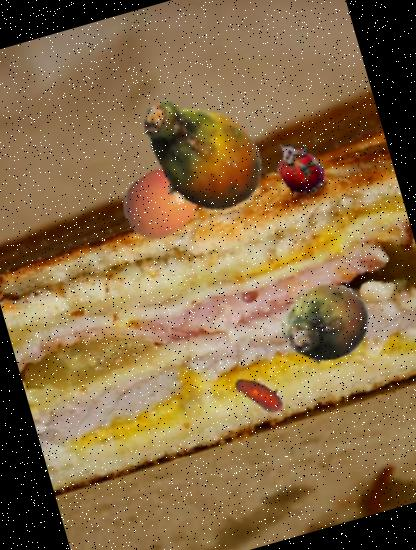Banana: (227, 358, 294, 426)
Cactus: (123, 70, 284, 231), (273, 270, 378, 376)
Grapefruit: (112, 154, 208, 250)
Pitahaya: (261, 131, 336, 206)
